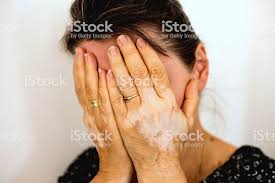vitiligo: (105, 72, 208, 154)
